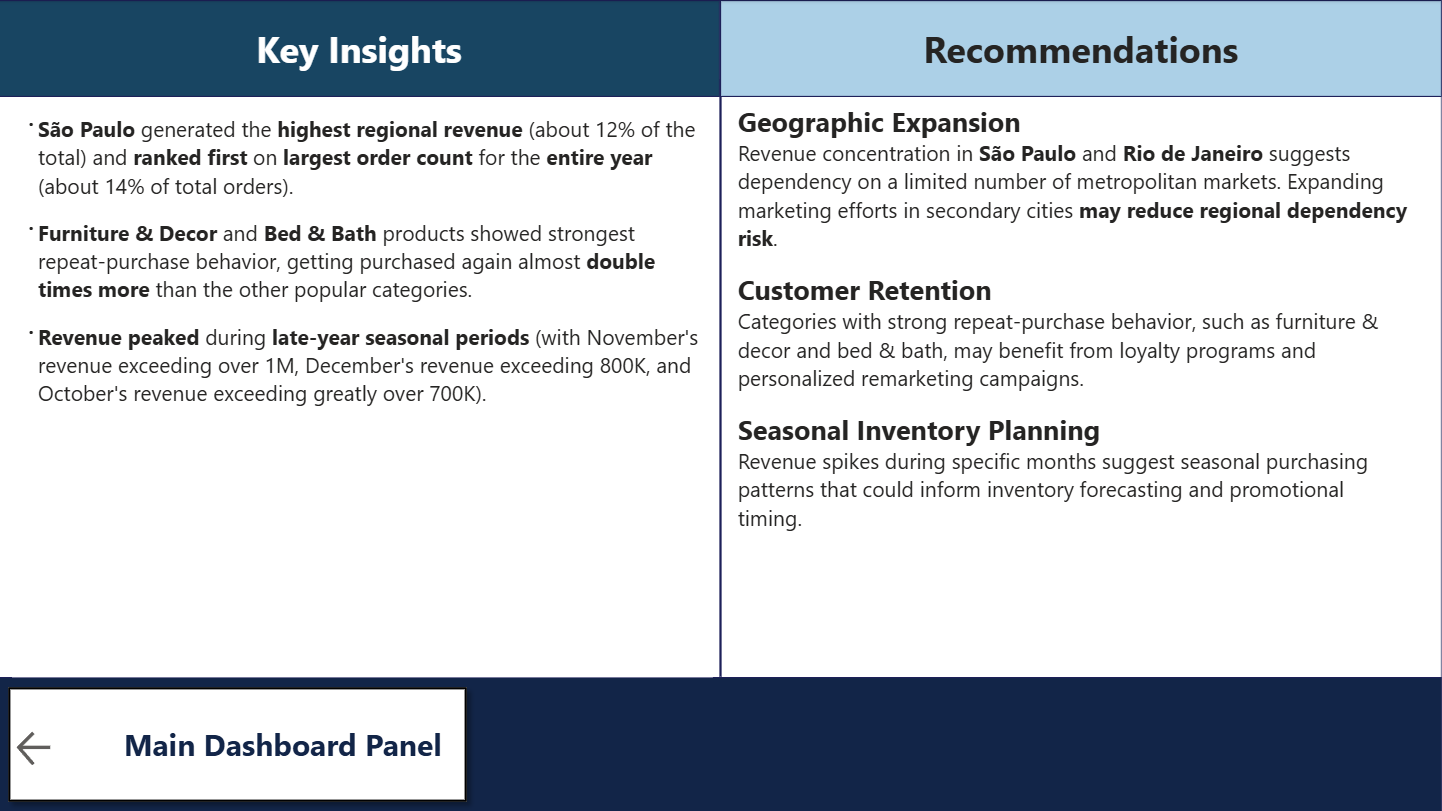

The page's visual inventory and layout, read from the dashboard file:
{"tool":"powerbi","page":{"name":"Insights","canvas":[1280,720],"ordinal":2},"visuals":[{"type":"shape","box":[0,0,1280.4,720],"z":1000},{"type":"shape","box":[490.3,70,300.6,530.2],"z":1250},{"type":"shape","box":[0,600.3,1280.4,119.7],"z":1500},{"type":"shape","box":[0,600.3,424.7,119.7],"z":2000},{"type":"textbox","box":[106.4,636.7,301.5,47],"z":3000},{"type":"actionButton","box":[12.4,643.7,94,39.9],"z":4000},{"type":"shape","box":[0,0,640.2,86],"z":5000},{"type":"shape","box":[640.2,0,640.2,86],"z":6000},{"type":"textbox","box":[0,16,640.2,54.1],"z":7000},{"type":"textbox","box":[640.2,16,640.2,54.1],"z":8000},{"type":"textbox","box":[12.4,96.7,620.7,503.6],"z":9000},{"type":"textbox","box":[650.8,86,609.2,514.3],"z":10000}]}

Visuals, with their boxes in screenshot pixels (x1, y1, x2, y2), scaled from the page's 1280x720 canvas onto the 1442x811 screenshot:
shape: l=0, t=0, r=1441, b=810
shape: l=552, t=79, r=891, b=676
shape: l=0, t=676, r=1441, b=810
shape: l=0, t=676, r=478, b=810
textbox: l=120, t=717, r=460, b=770
actionButton: l=14, t=725, r=120, b=770
shape: l=0, t=0, r=721, b=97
shape: l=721, t=0, r=1441, b=97
textbox: l=0, t=18, r=721, b=79
textbox: l=721, t=18, r=1441, b=79
textbox: l=14, t=109, r=713, b=676
textbox: l=733, t=97, r=1419, b=676
